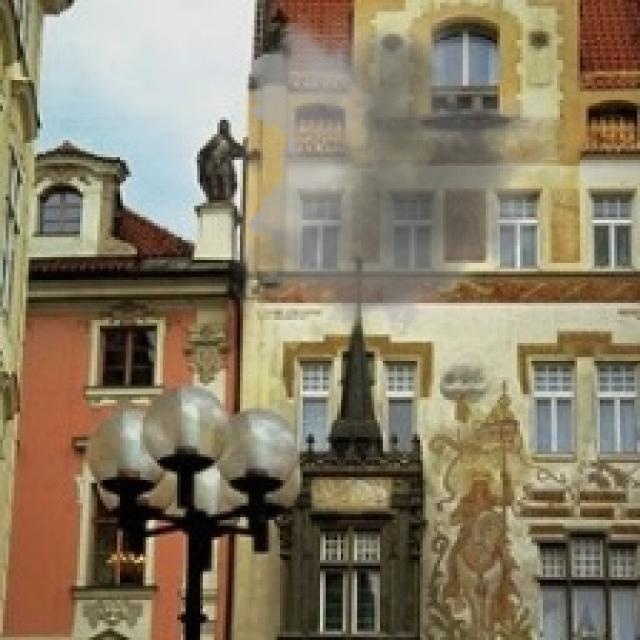Smoke: (165, 0, 578, 349)
